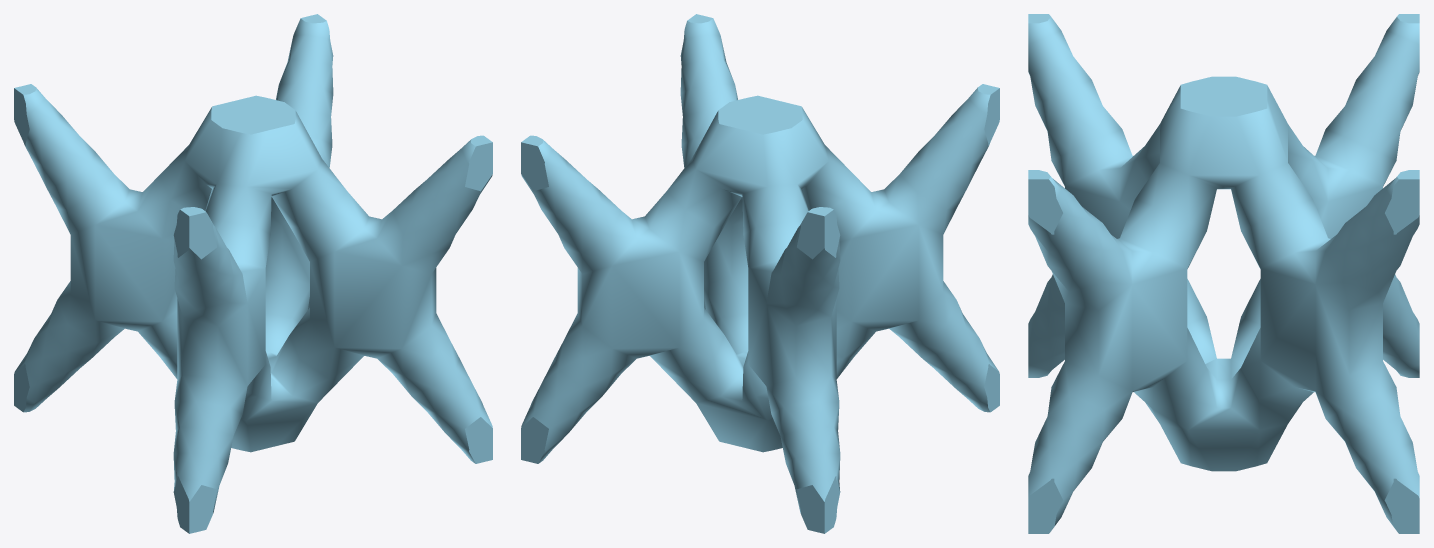
Rendered from Variation3.glb.
3 renders of one model, left to right at view 1: azimuth 30°, elevation 25°; view 2: azimuth 150°, elevation 25°; view 3: azimuth 270°, elevation 25°, orthographic. The views are drawn at different scales.
Visible parts, largest first — view 1: Mesh_0.013; view 2: Mesh_0.013; view 3: Mesh_0.013.
Part boxes in pixels (box(x1,y1,x2,y2)): Mesh_0.013: box(14, 14, 492, 533); Mesh_0.013: box(521, 14, 999, 533); Mesh_0.013: box(1028, 14, 1419, 533).
Bounding box in the file's own units: 1 × 1 × 1.
